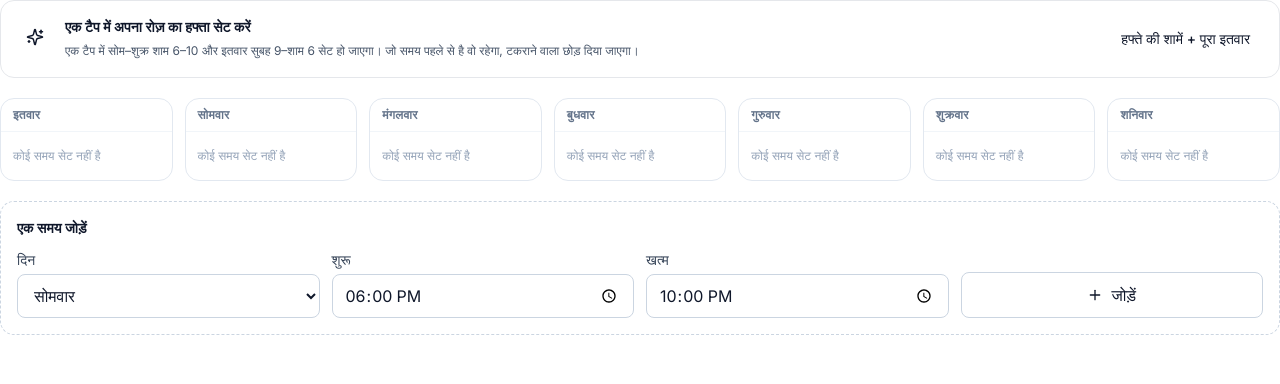
Test case: AvailabilityEditor › rejects an end time at or before the start time before any request is made
The image size is (1280, 384).
Replace the text in the time field labelled "शुरू" with "10:00" at coordinates (483, 296), box [332, 274, 634, 318]
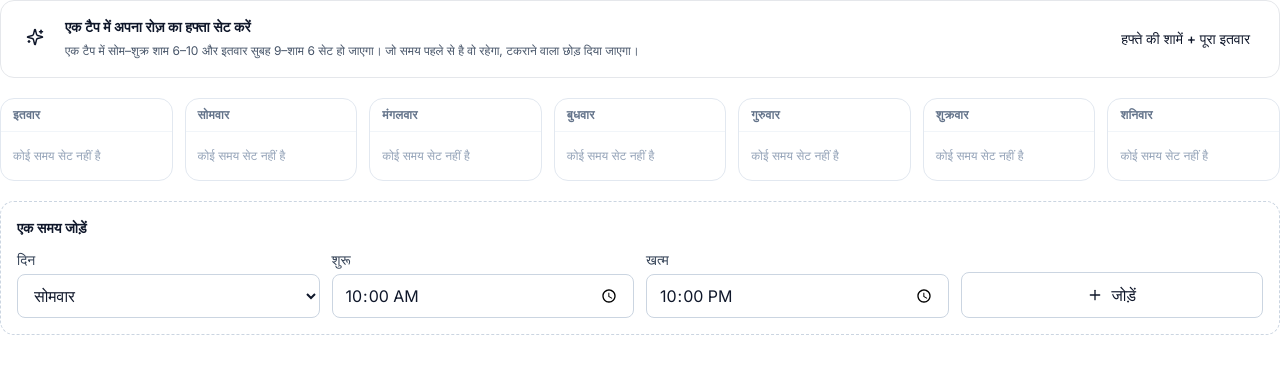
Replace the text in the time field labelled "खत्म" with "09:00" at coordinates (797, 296), box [646, 274, 948, 318]
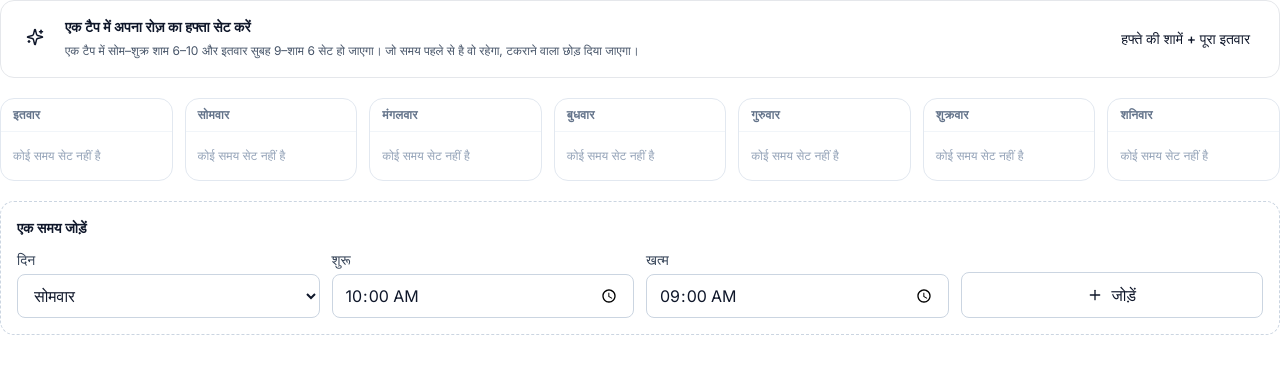
Click the button "जोड़ें" at coordinates (1112, 295), box [960, 272, 1263, 318]
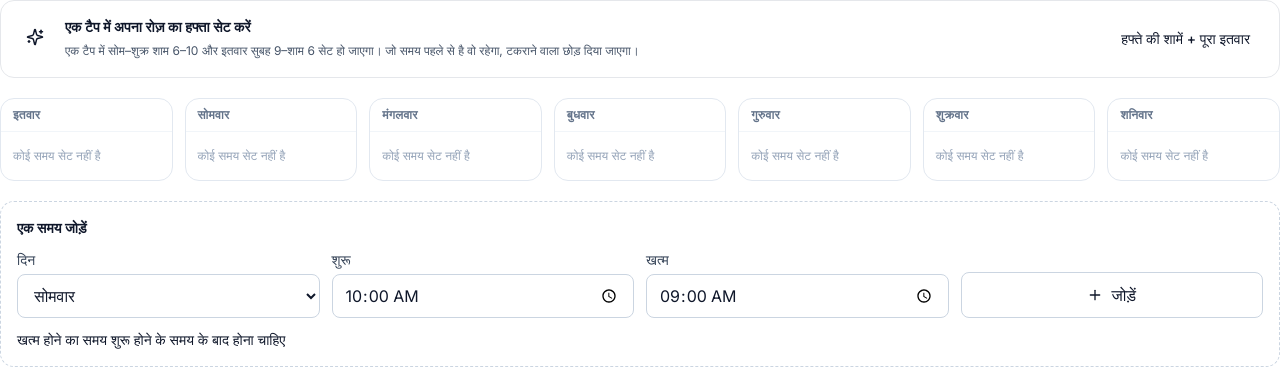
Now the message reads "खत्म होने का समय शुरू होने के समय के बाद होना चाहिए", box [17, 331, 285, 348]
